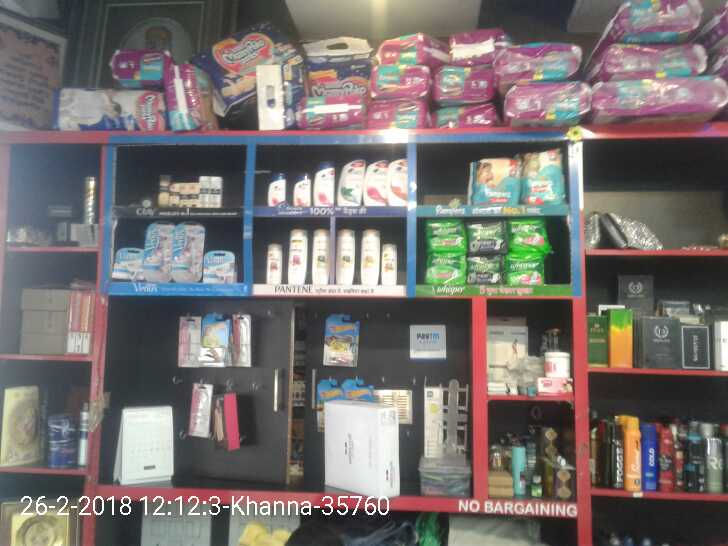venus: (142, 223, 175, 279), (175, 223, 204, 280), (204, 250, 236, 280), (112, 248, 142, 279)
